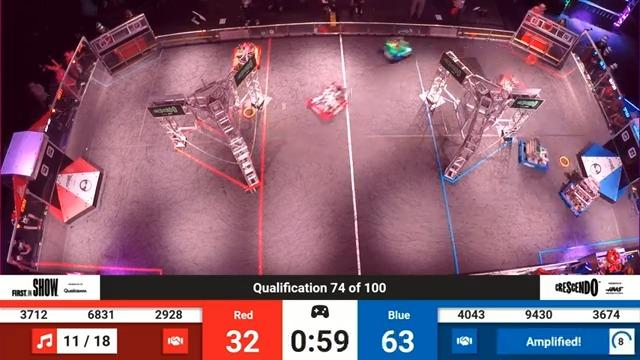robot: (300, 86, 360, 124), (553, 173, 599, 218), (513, 135, 555, 174), (229, 36, 266, 72), (378, 35, 420, 66)
